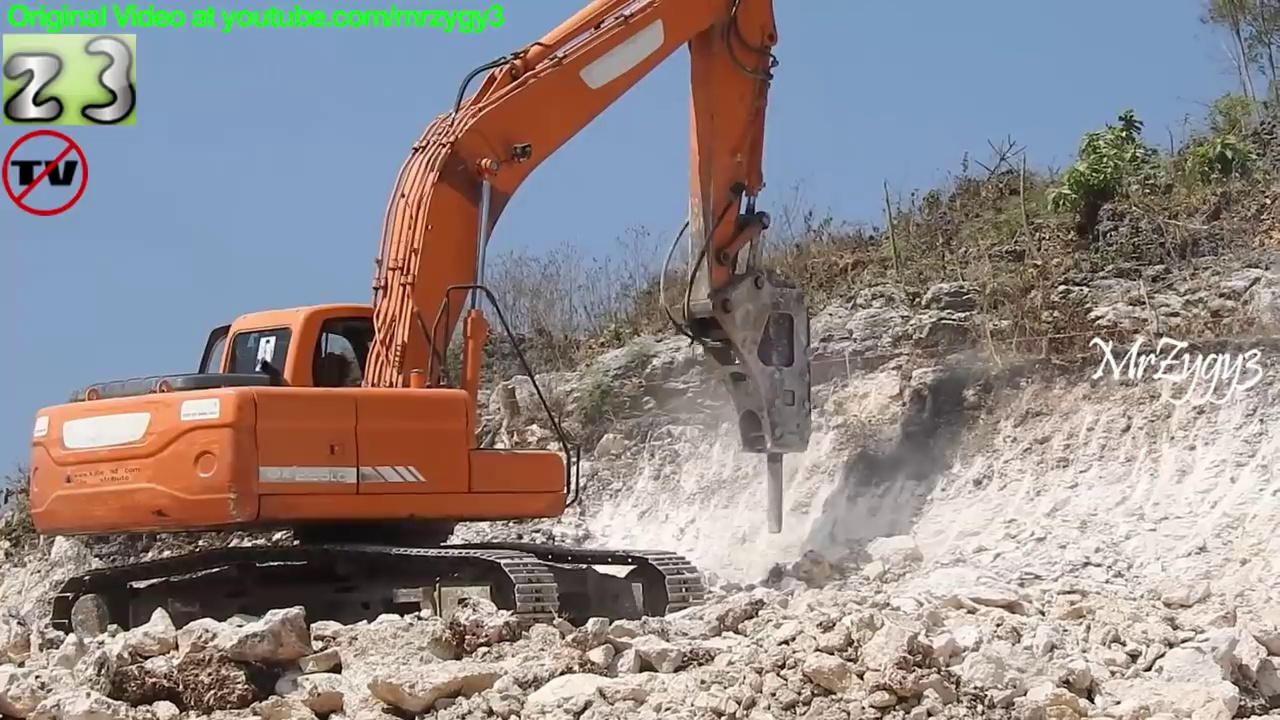excavator: (22, 1, 826, 650)
